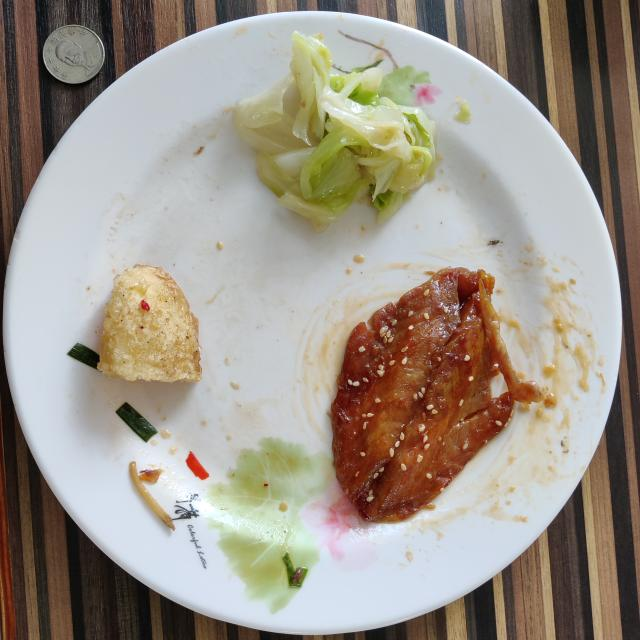Kabayaki sea bream fillet: (331, 268, 544, 521)
cabbage: (234, 32, 435, 229)
coin: (42, 25, 105, 84)
fried potato: (99, 265, 201, 382)
